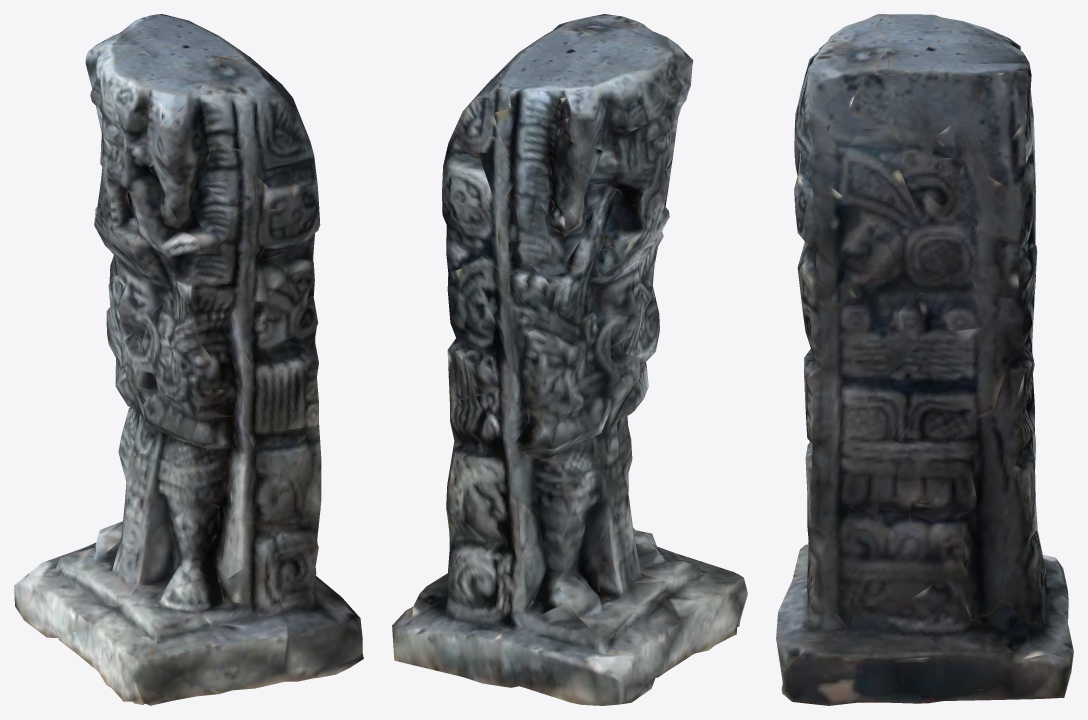
Rendered from honduran-statue.lod0.glb.
The picture shows the model from 3 angles, left to right: view 1: azimuth 30°, elevation 25°; view 2: azimuth 150°, elevation 25°; view 3: azimuth 270°, elevation 25°; orthographic projection.
Parts seen in each view (by area): view 1: Object_4; view 2: Object_4; view 3: Object_4.
Boxes of the visible parts, x1,y1,x2,y2 form: Object_4: (14, 14, 363, 705); Object_4: (392, 14, 747, 705); Object_4: (776, 14, 1073, 705).
Size of the model in its own units: 0.9742 by 2.4 by 1.07.
1 material, 1 textured.
